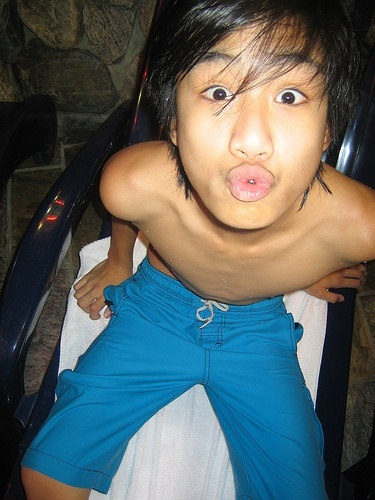head: (157, 1, 354, 232)
person: (19, 1, 369, 496)
